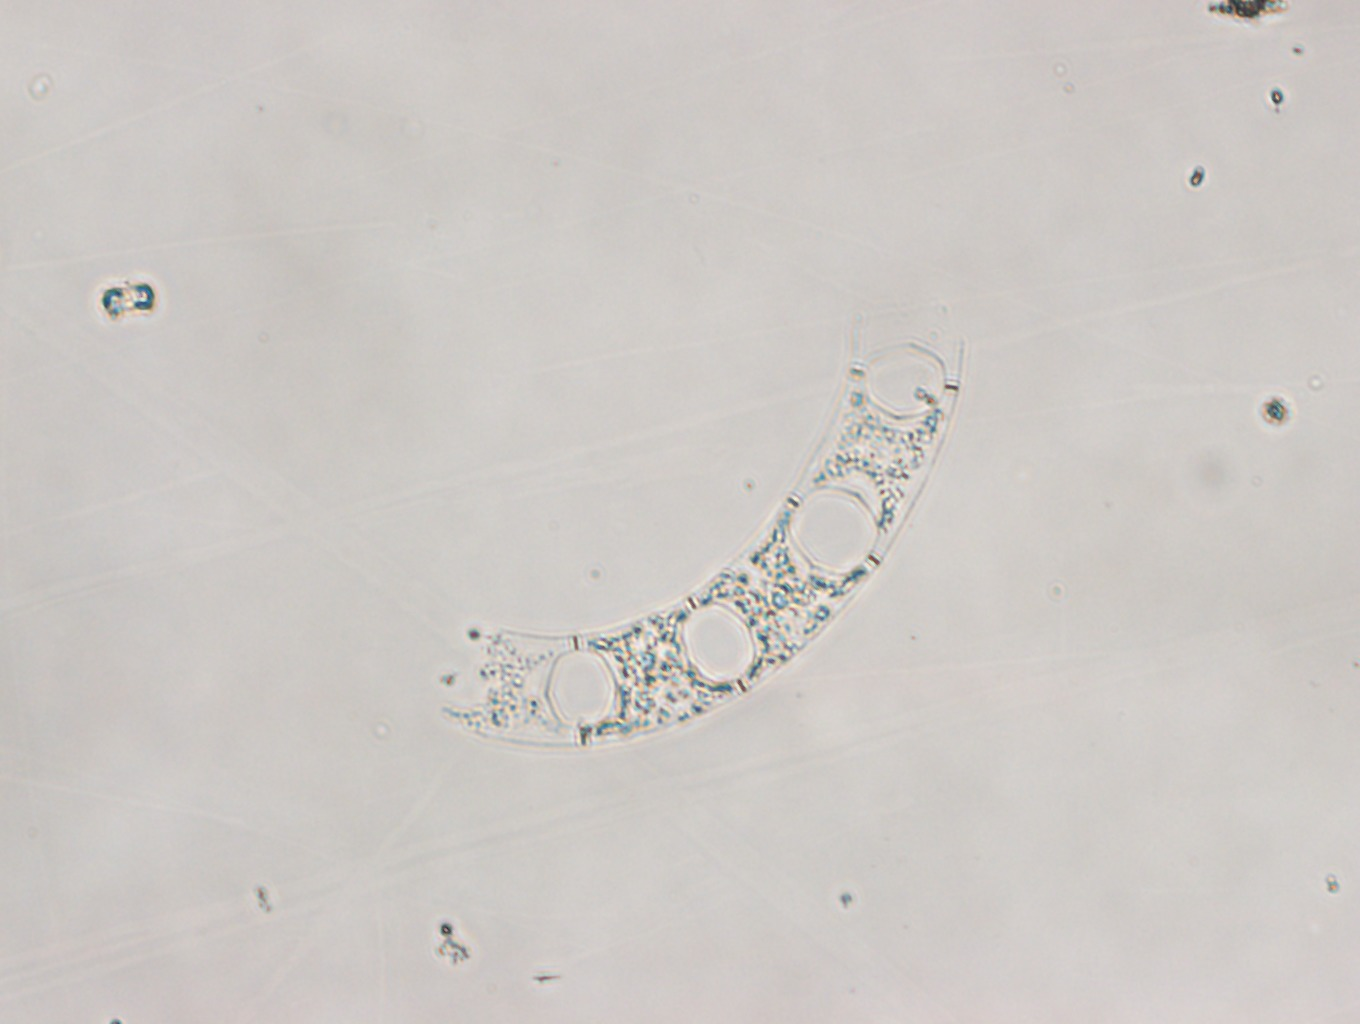eucampia: (435, 335, 967, 749)
